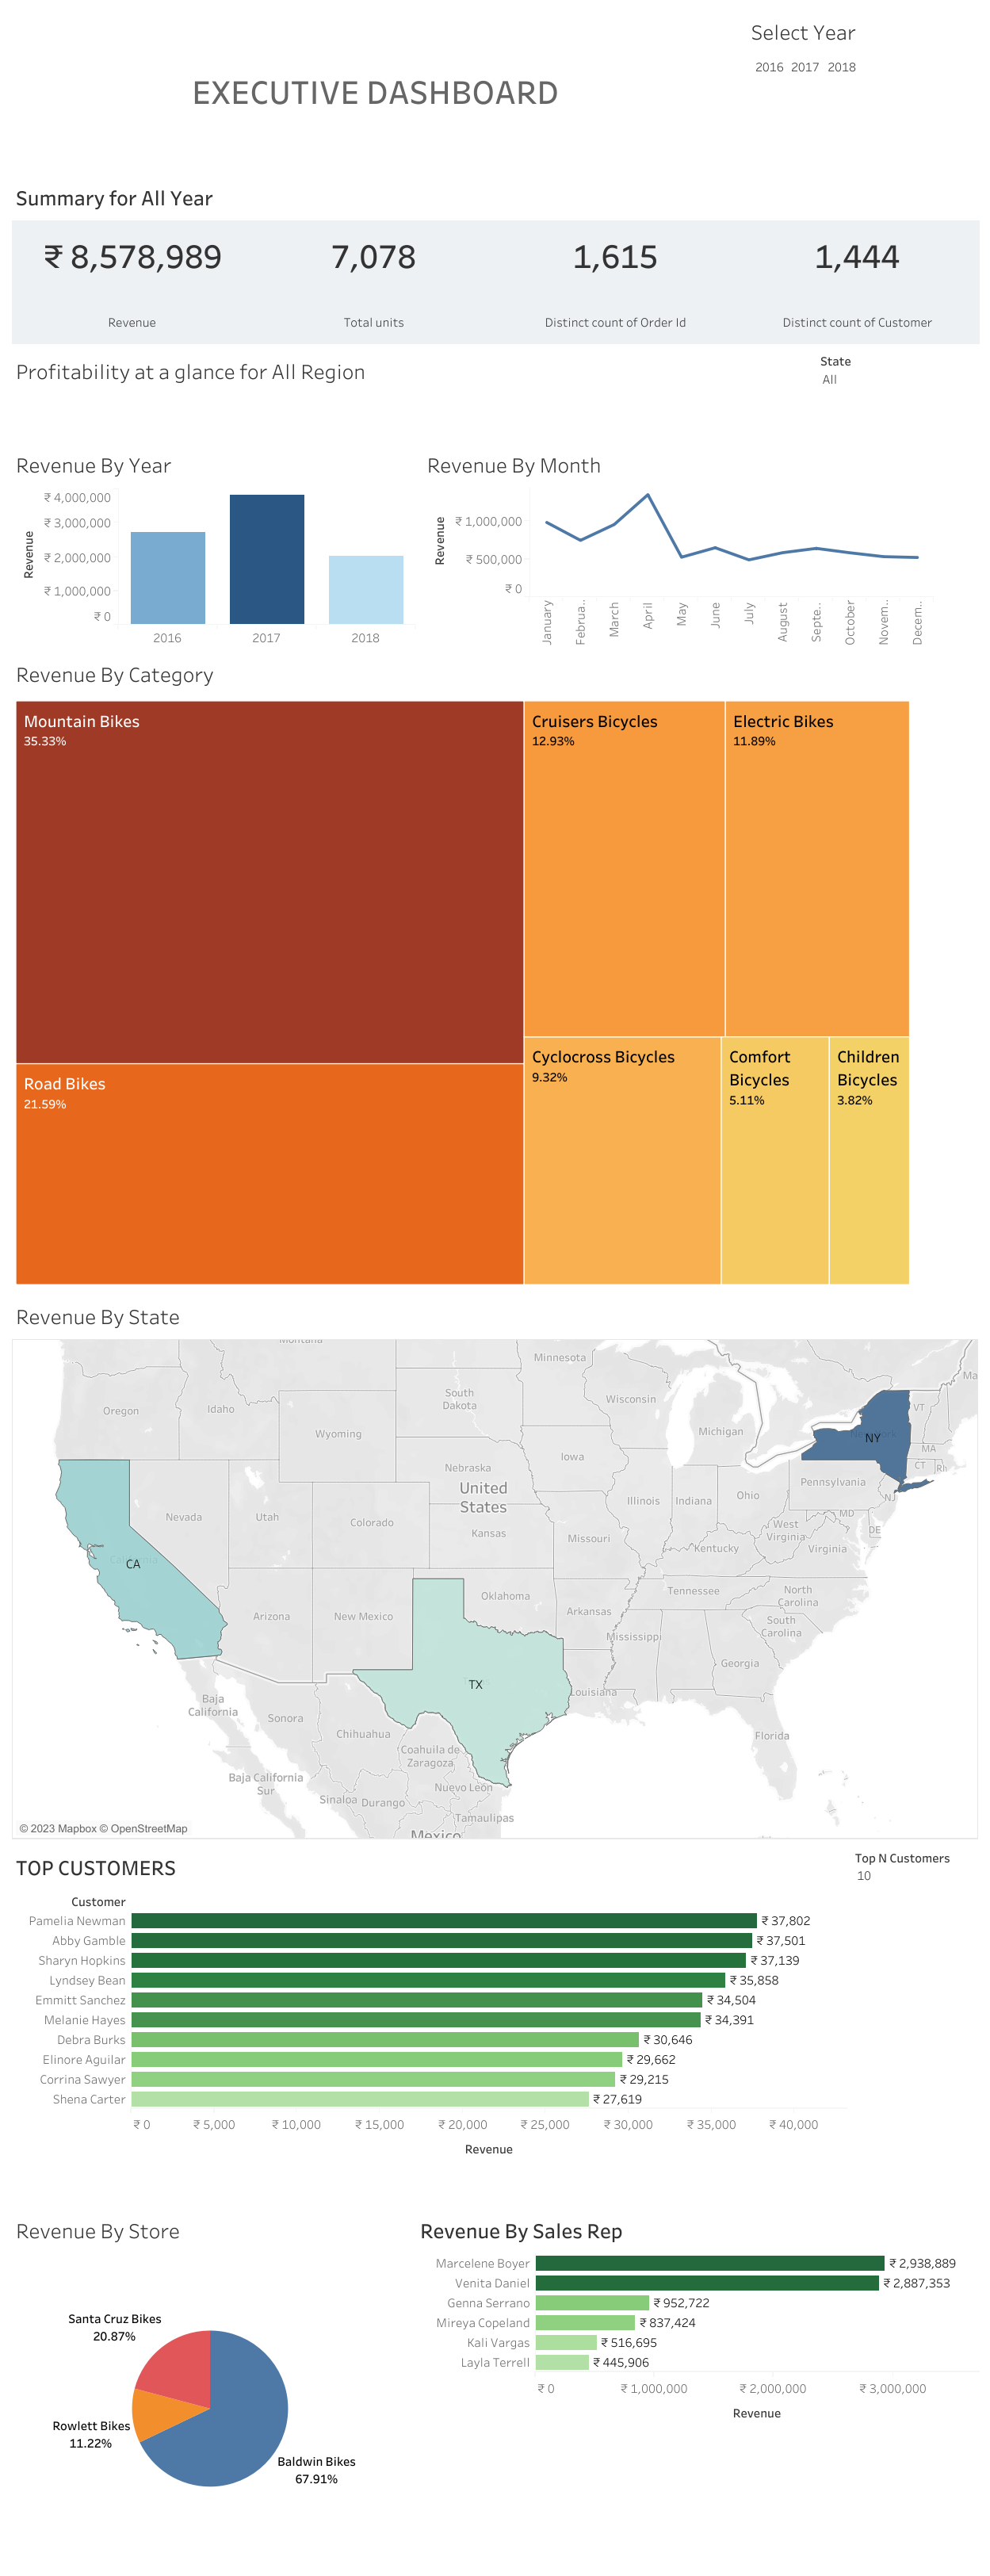

The dashboard page shown, as its layout file describes it:
{"tool":"tableau","page":{"name":"Dashboard 1","canvas":[1000,2600],"ordinal":0},"visuals":[{"type":"text","box":[8,8,742,167]},{"type":"worksheet","title":"Year","mark":"Automatic","box":[750,8,242,167]},{"type":"worksheet","title":"Banner","mark":"Automatic","box":[8,175,984,175]},{"type":"worksheet","title":"Title","mark":"Automatic","box":[8,350,816,95]},{"type":"filter","title":"Revenue By State","param":"[federated.00pjw5r0by17jt1eyl2gt0jmzr2b].[none:state:nk]","box":[824,350,168,95]},{"type":"worksheet","title":"Revenue By Year","mark":"Bar","rows":["Revenue"],"cols":["order_date"],"box":[8,445,415,210.9]},{"type":"worksheet","title":"Revenue By Month","mark":"Automatic","rows":["Revenue"],"cols":["order_date"],"box":[423,445,569,210.9]},{"type":"worksheet","title":"Revenue By Category","mark":"Automatic","box":[8,655.9,984,648]},{"type":"worksheet","title":"Revenue By State","mark":"Multipolygon","box":[8,1303.9,984,556.1]},{"type":"worksheet","title":"Top Customers","mark":"Automatic","rows":["Customer"],"cols":["Revenue"],"box":[8,1860,851,366]},{"type":"parameter","param":"[Parameters].[Parameter 1]","box":[859,1860,133,366]},{"type":"worksheet","title":"Revenue By Store","mark":"Pie","box":[8,2226,408,366]},{"type":"worksheet","title":"Revenue By Sales Rep","mark":"Automatic","rows":["Sales_rep"],"cols":["Revenue"],"box":[416,2226,576,366]}]}

Visuals, with their boxes in screenshot pixels (x1, y1, x2, y2), scaled from the page's 1000x2600 canvas onto the 990x2576 screenshot:
text: (8,8,743,174)
"Year" worksheet: (743,8,982,174)
"Banner" worksheet: (8,174,982,346)
"Title" worksheet: (8,346,816,441)
"Revenue By State" filter: (816,346,982,441)
"Revenue By Year" worksheet (Bar marks): (8,441,419,650)
"Revenue By Month" worksheet: (419,441,982,650)
"Revenue By Category" worksheet: (8,650,982,1292)
"Revenue By State" worksheet (Multipolygon marks): (8,1292,982,1843)
"Top Customers" worksheet: (8,1843,850,2206)
parameter: (850,1843,982,2206)
"Revenue By Store" worksheet (Pie marks): (8,2206,412,2568)
"Revenue By Sales Rep" worksheet: (412,2206,982,2568)
